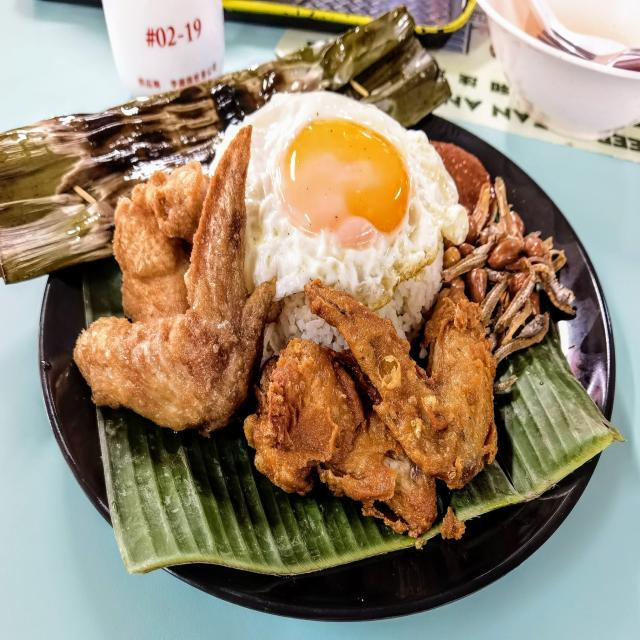Chicken: (244, 281, 497, 537), (74, 129, 279, 434)
Egg: (241, 92, 468, 309)
Rice: (262, 292, 348, 362), (376, 252, 441, 339)
